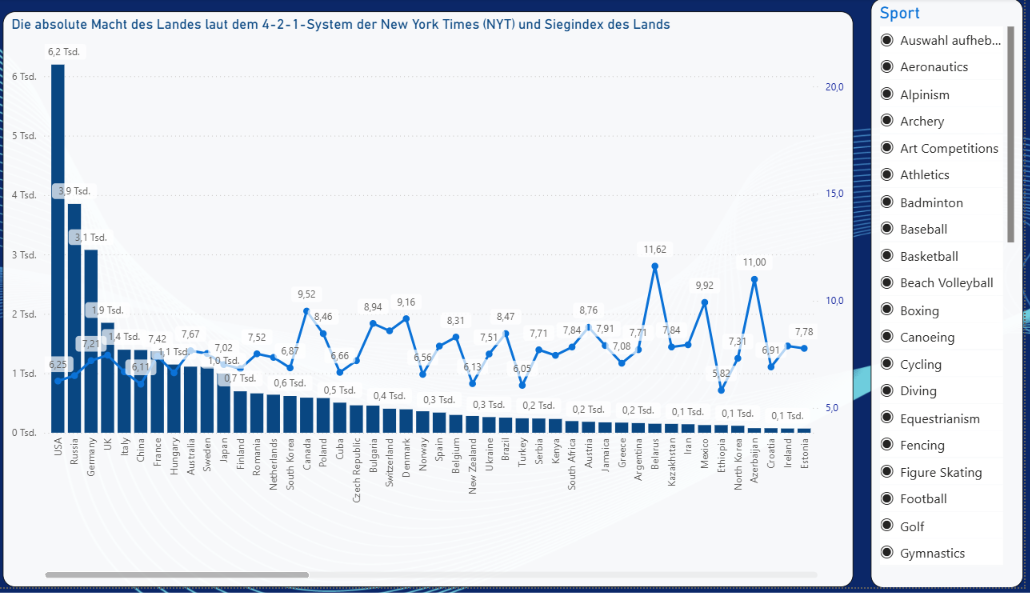

The page's visual inventory and layout, read from the dashboard file:
{"tool":"powerbi","page":{"name":"421-NYT und Siegindex nach Sport","canvas":[1280,720],"ordinal":2},"visuals":[{"type":"listSlicer","title":"Sport","fields":{"Values":["public dim_sport.sport"]},"box":[1093.5,0,186.5,720.4],"z":0},{"type":"lineStackedColumnComboChart","title":"Die absolute Macht des Landes laut dem 4-2-1-System der New York Times (NYT) und Siegindex des Lands ","fields":{"Category":["public dim_country.country"],"Y":["metrics.Total_Points_421"],"Y2":["metrics.Siegindex"]},"box":[32,16,1040,704],"z":1000}]}

Visuals, with their boxes in screenshot pixels (x1, y1, x2, y2):
"Sport" listSlicer: (x1=867, y1=0, x2=1021, y2=585)
"Die absolute Macht des Landes laut dem 4-2-1-System der New York Times (NYT) und Siegindex des Lands " lineStackedColumnComboChart: (x1=0, y1=5, x2=850, y2=584)
